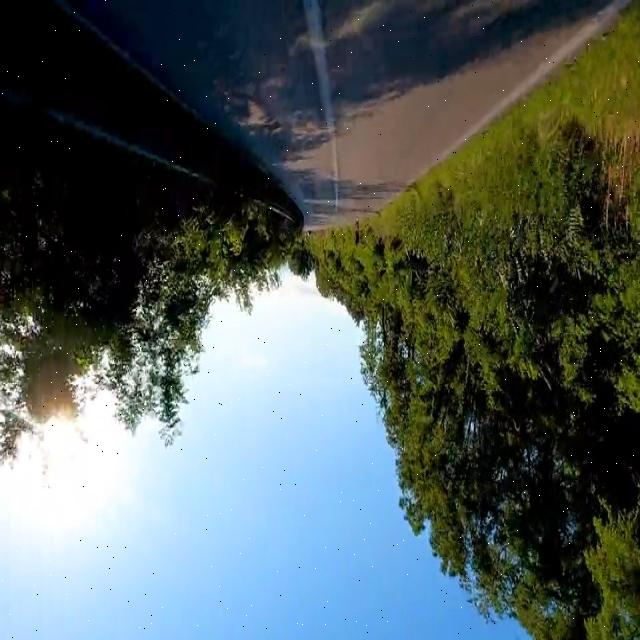lane: (303, 1, 338, 212)
road: (71, 2, 618, 230)
